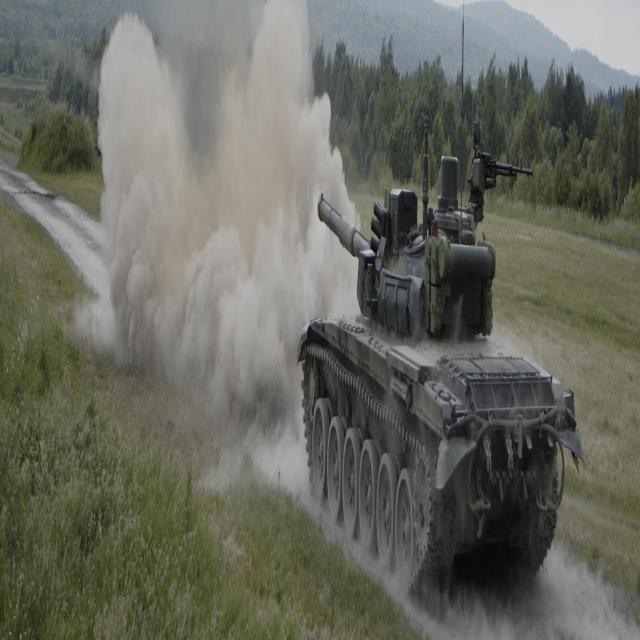MIL_MBT: (289, 123, 581, 581)
